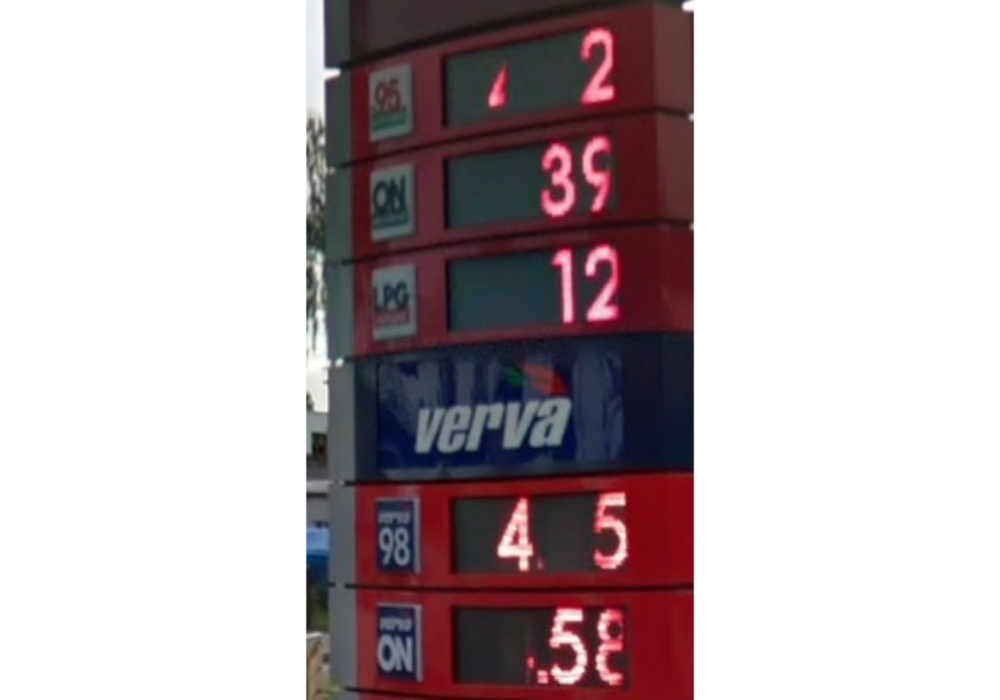LPG: (366, 261, 417, 342)
ON: (372, 596, 425, 684), (366, 159, 415, 245)
PB95: (362, 62, 415, 145)
PB98: (372, 491, 419, 579)
